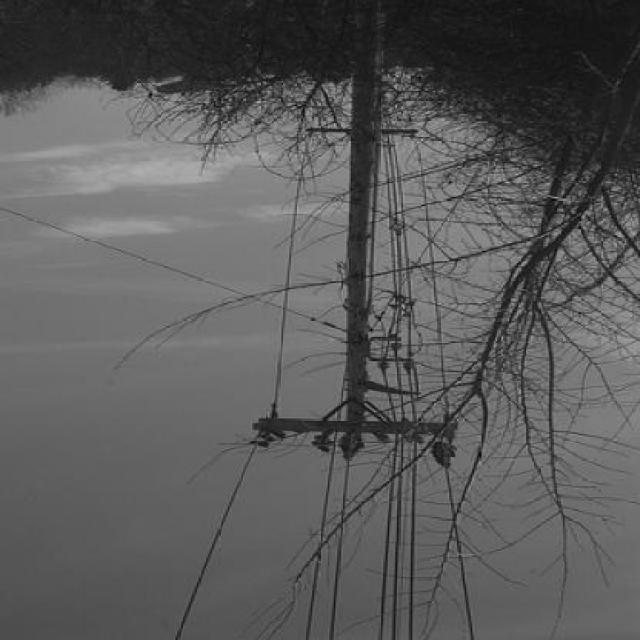pole: (249, 11, 460, 472)
